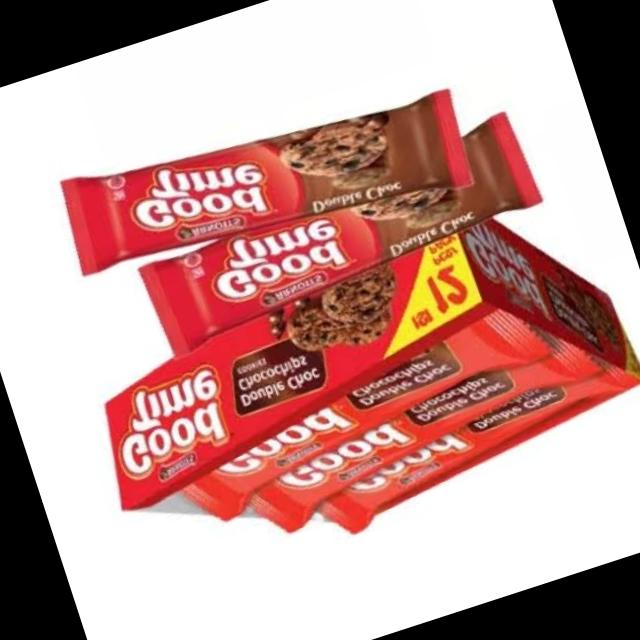KemasanPlastik: (38, 37, 561, 388)
